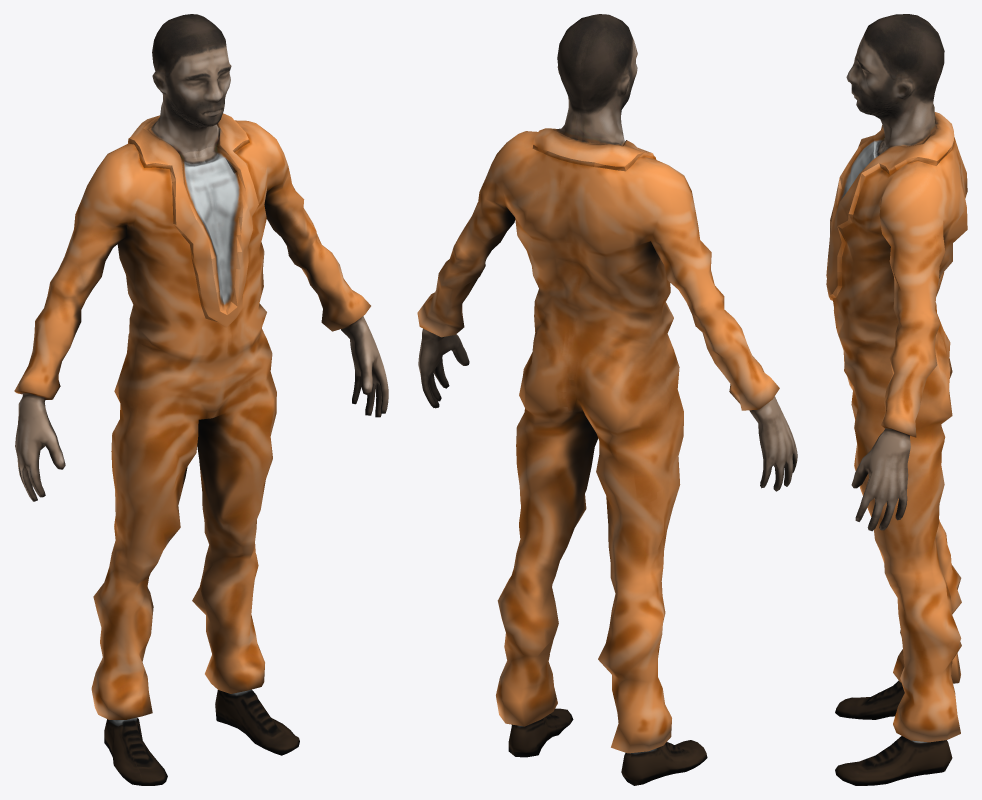
Rendered from PRISIONER.FBX.
3 views of the same model, side by side, from view 1: azimuth 30°, elevation 25°; view 2: azimuth 150°, elevation 25°; view 3: azimuth 270°, elevation 25° (orthographic).
Parts seen in each view (by area): view 1: humanBody; view 2: humanBody; view 3: humanBody.
Boxes of the visible parts, bbox=[...] form: humanBody: bbox=[14, 14, 388, 785]; humanBody: bbox=[417, 14, 797, 785]; humanBody: bbox=[826, 14, 967, 785].
Size of the model in its own units: 94.45 by 182 by 32.
